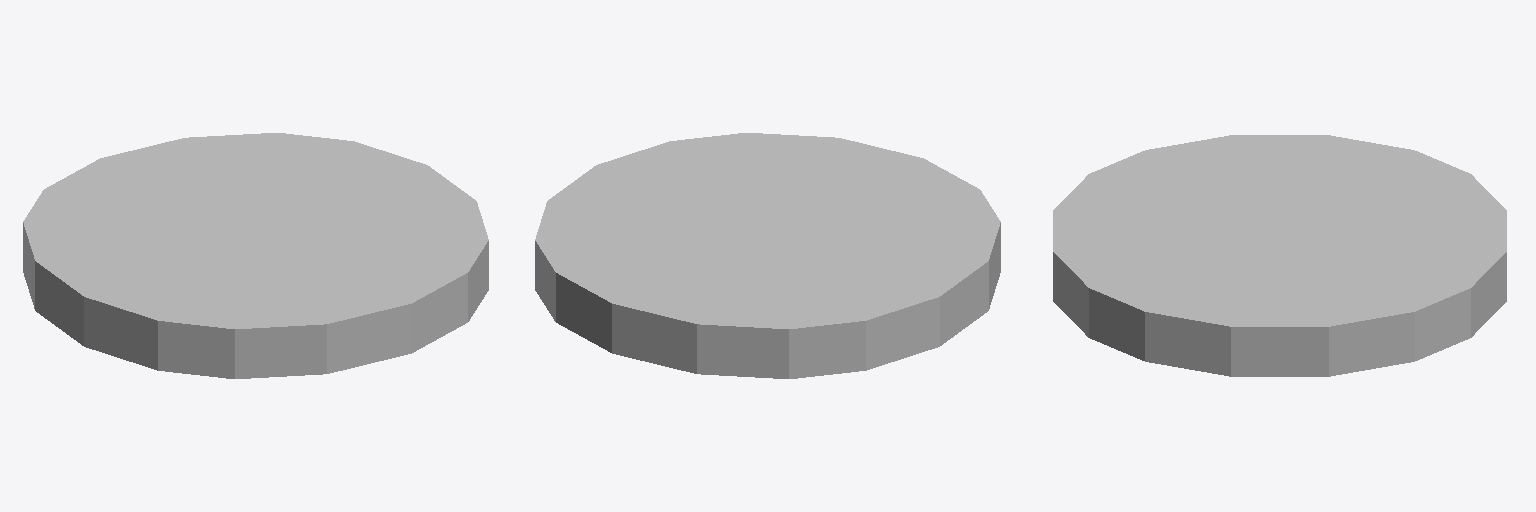
Rendered from coin.obj.
3 renders of one model, left to right at view 1: azimuth 30°, elevation 25°; view 2: azimuth 150°, elevation 25°; view 3: azimuth 270°, elevation 25°, orthographic.
Parts seen in each view (by area): view 1: Cube; view 2: Cube; view 3: Cube.
Boxes of the visible parts, x1=… form: Cube: x1=23, y1=133, x2=488, y2=378; Cube: x1=535, y1=133, x2=1000, y2=378; Cube: x1=1053, y1=135, x2=1506, y2=376.
Bounding box in the file's own units: 0.0717 × 0.0087 × 0.0717.